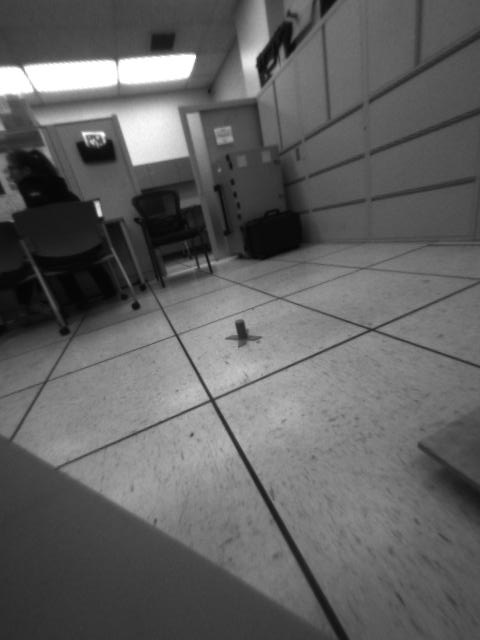X: (224, 319, 264, 349)
